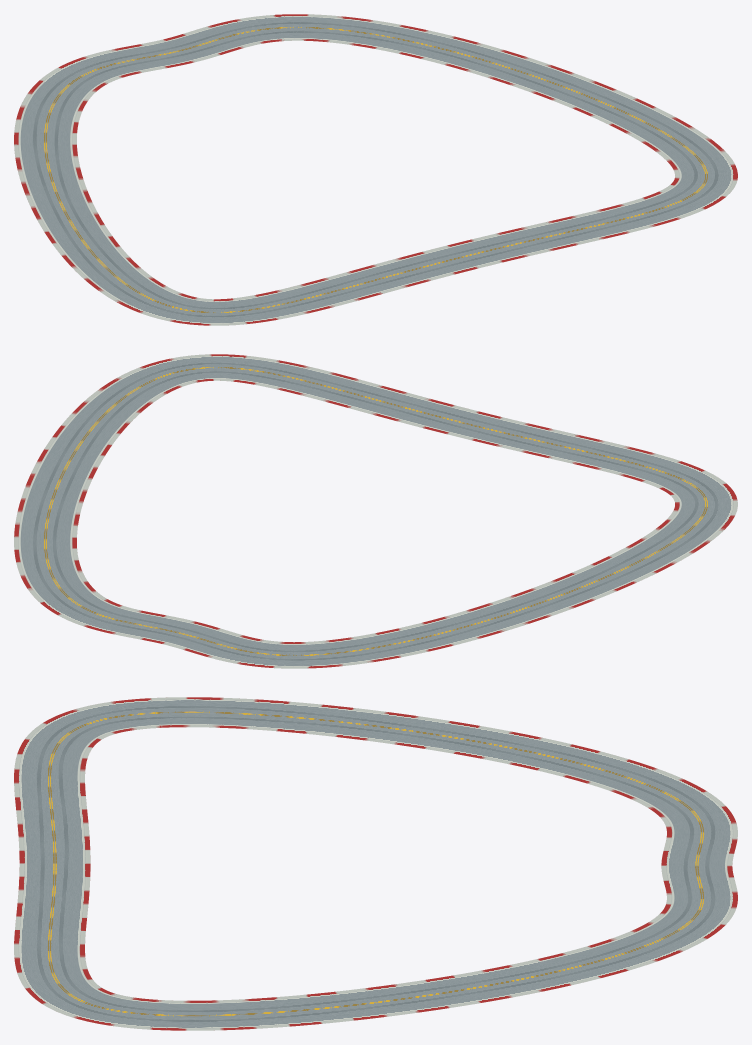
File: track.glb
3 renders of one model, top to bottom at view 1: azimuth 30°, elevation 25°; view 2: azimuth 150°, elevation 25°; view 3: azimuth 270°, elevation 25°, orthographic. The views are drawn at different scales.
Bounding box in the file's own units: 174 × 0.9354 × 158.
Materials: 1 (1 with a texture image).
